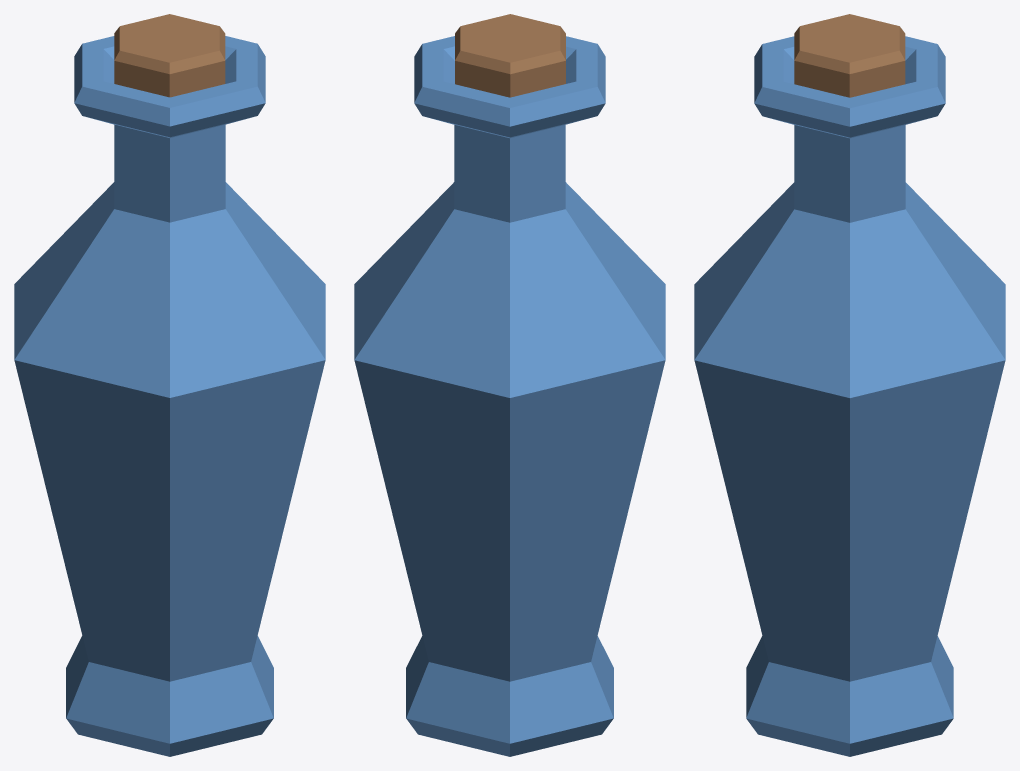
File: Blue_Potion_8.fbx
The picture shows the model from 3 angles, left to right: view 1: azimuth 30°, elevation 25°; view 2: azimuth 150°, elevation 25°; view 3: azimuth 270°, elevation 25°; orthographic projection.
Visible parts, largest first — view 1: Blue_Potion_8; view 2: Blue_Potion_8; view 3: Blue_Potion_8.
Boxes of the visible parts, x1,y1,x2,y2 form: Blue_Potion_8: [14, 14, 325, 756]; Blue_Potion_8: [354, 14, 665, 756]; Blue_Potion_8: [694, 14, 1005, 756].
Bounding box in the file's own units: 16.45 × 34.03 × 14.25.
